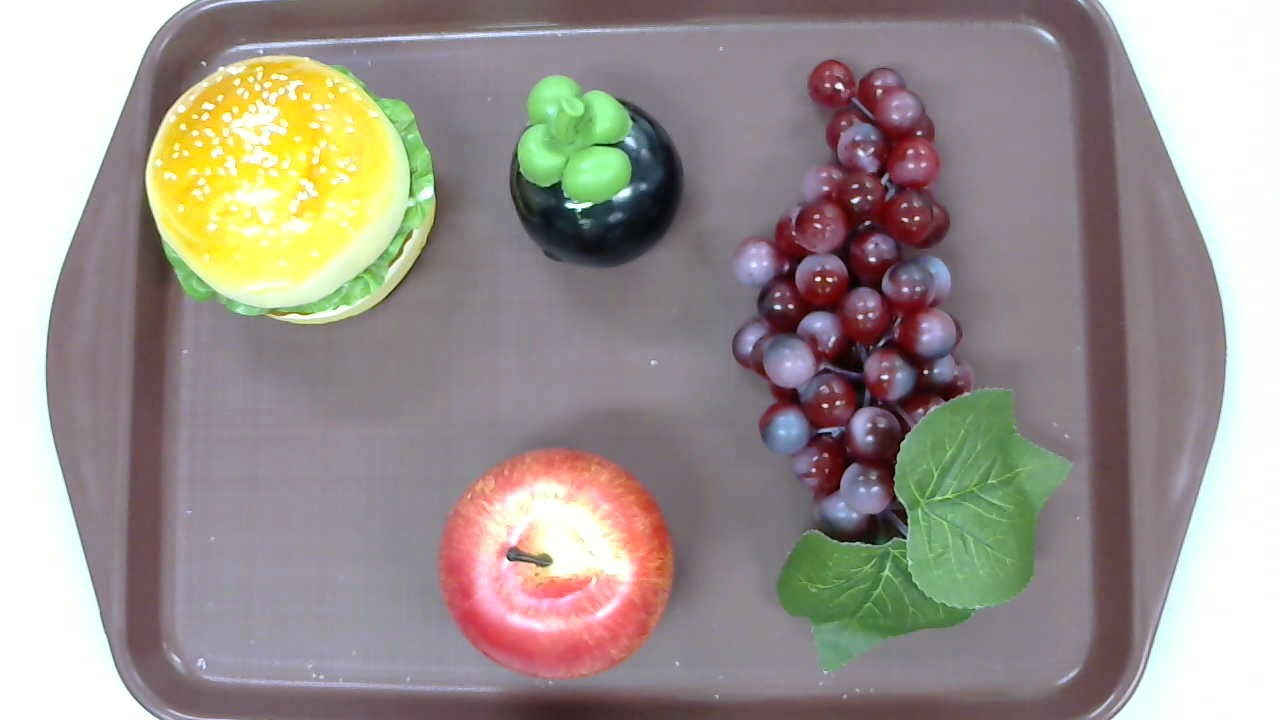grape: (732, 60, 1073, 673)
hamburger: (144, 54, 437, 324)
mangosteen: (510, 73, 685, 270)
red apple: (438, 447, 676, 679)
